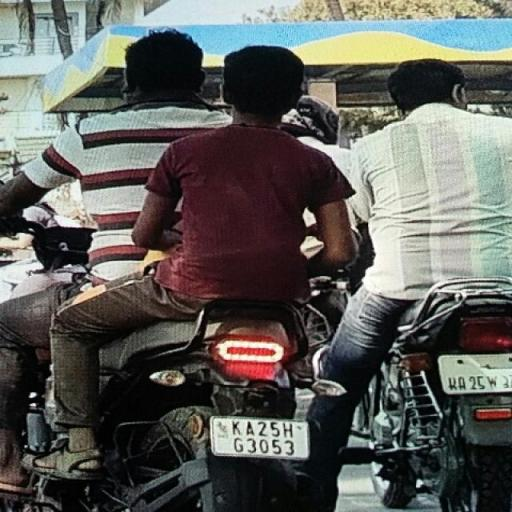bike: (6, 26, 362, 512)
numberplate: (212, 415, 310, 459)
withouthelmet: (227, 50, 300, 120), (126, 32, 200, 98)
